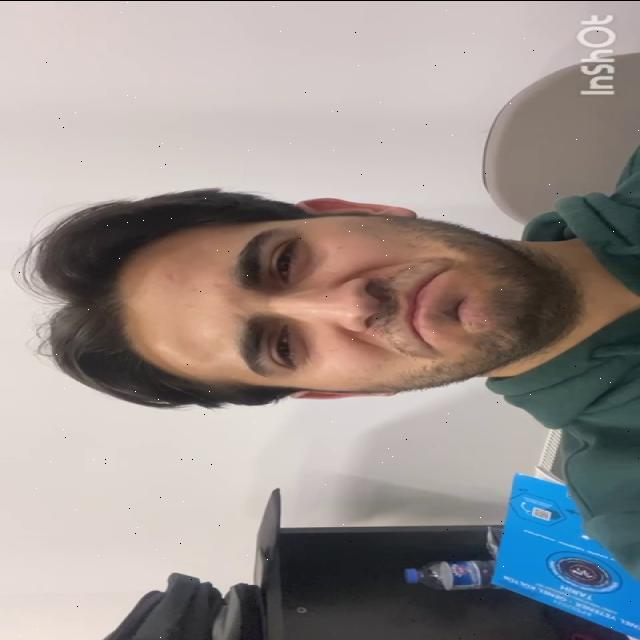sad: (104, 196, 526, 407)
